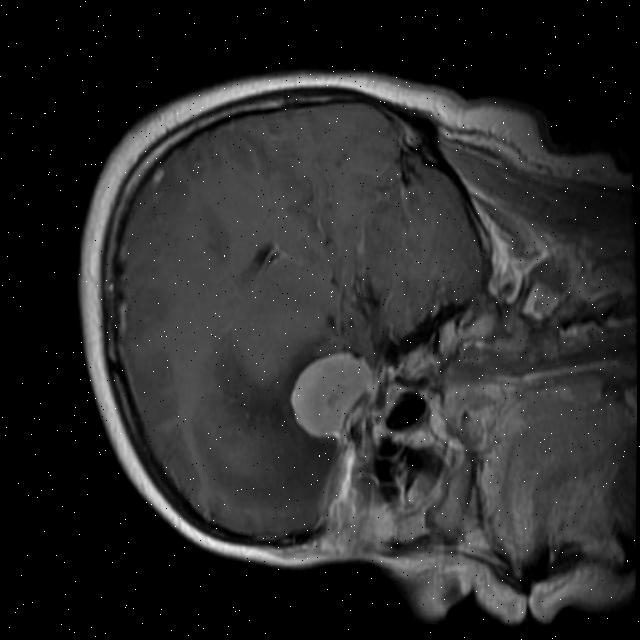Meningioma: (287, 350, 376, 442)
